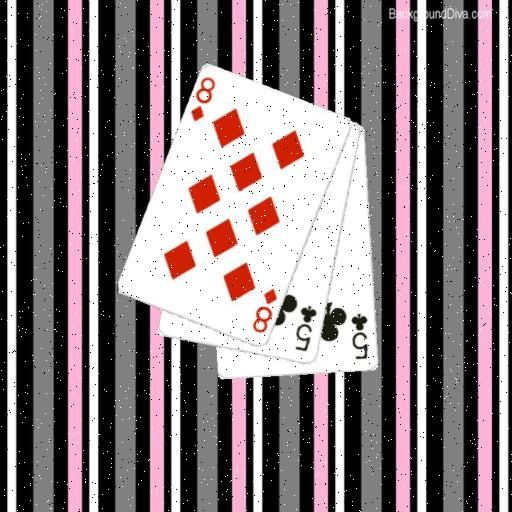5C: (293, 303, 319, 353), (348, 311, 370, 361)
8D: (249, 285, 279, 335), (188, 74, 217, 124)
